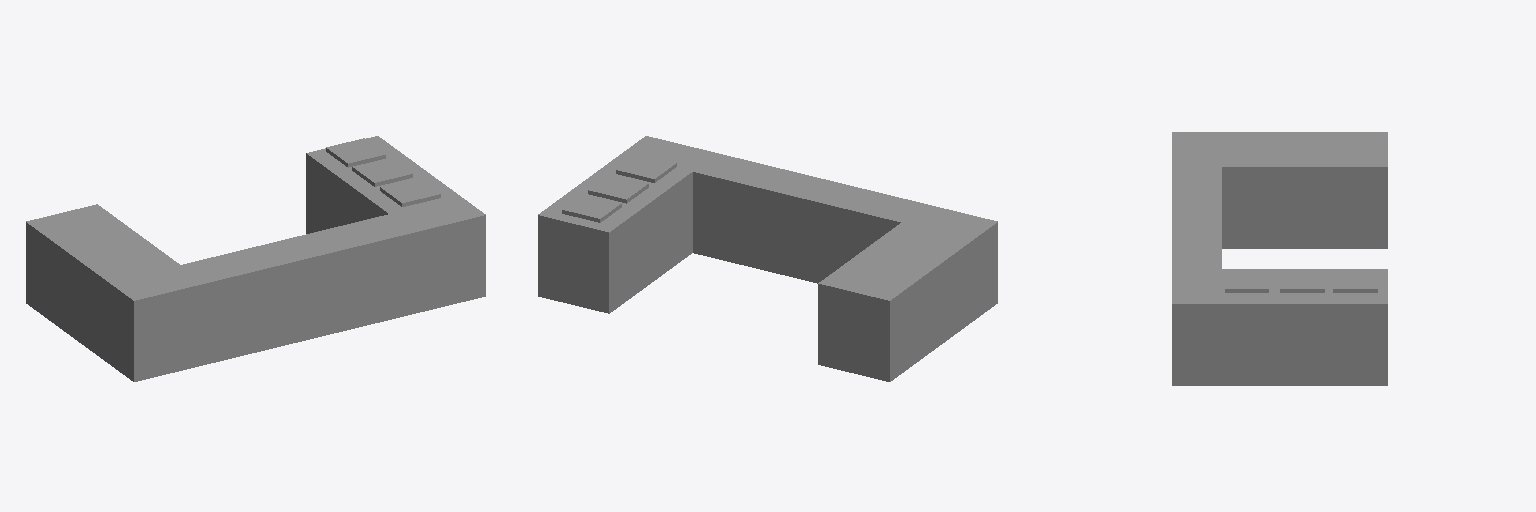
Rendered from balcao.obj.
3 views of the same model, side by side, from view 1: azimuth 30°, elevation 25°; view 2: azimuth 150°, elevation 25°; view 3: azimuth 270°, elevation 25° (orthographic).
Parts seen in each view (by area): view 1: Counter_Cube.009; view 2: Counter_Cube.009; view 3: Counter_Cube.009.
Boxes of the visible parts, x1=… form: Counter_Cube.009: x1=26, y1=136, x2=485, y2=381; Counter_Cube.009: x1=538, y1=136, x2=997, y2=381; Counter_Cube.009: x1=1172, y1=132, x2=1387, y2=385.
Size of the model in its own units: 9.06 by 2.15 by 4.83.